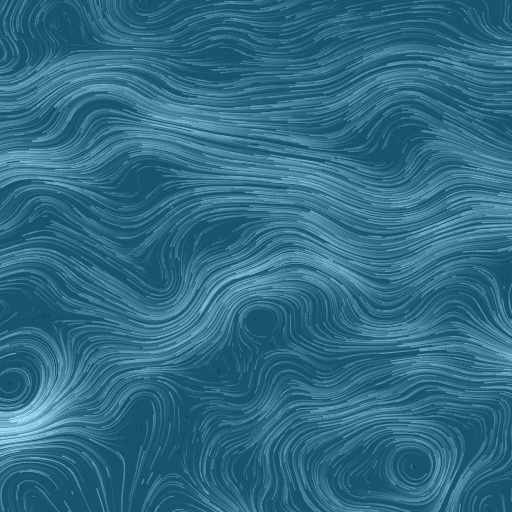eddy: (374, 429, 453, 504), (238, 301, 284, 342), (1, 365, 35, 410)
